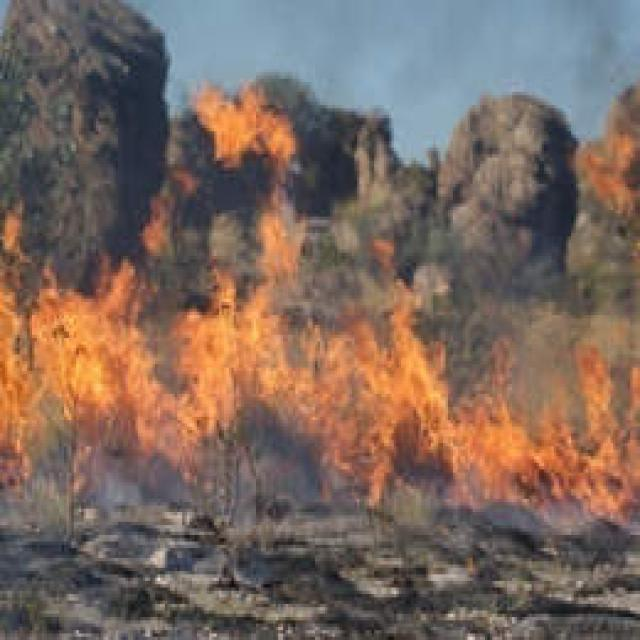Fire: (0, 223, 635, 509), (176, 48, 306, 180), (250, 189, 316, 287)
Smoke: (160, 72, 456, 294), (0, 0, 176, 299), (422, 74, 588, 318), (562, 54, 640, 330)
